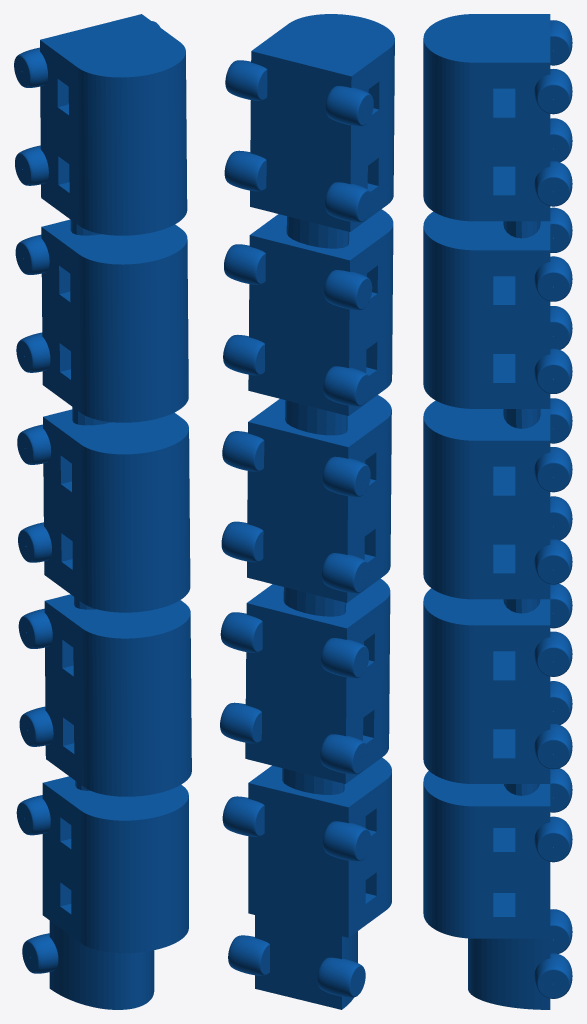
Rendered from tinker.obj.
3 views of the same model, side by side, from view 1: azimuth 30°, elevation 25°; view 2: azimuth 150°, elevation 25°; view 3: azimuth 270°, elevation 25° (orthographic).
Parts seen in each view (by area): view 1: obj_0; view 2: obj_0; view 3: obj_0.
Part boxes in pixels (x1,y1,x2,y2): obj_0: [14, 14, 191, 1009]; obj_0: [220, 14, 394, 1009]; obj_0: [423, 14, 572, 1009].
Bounding box in the file's own units: 51.06 × 330 × 47.
